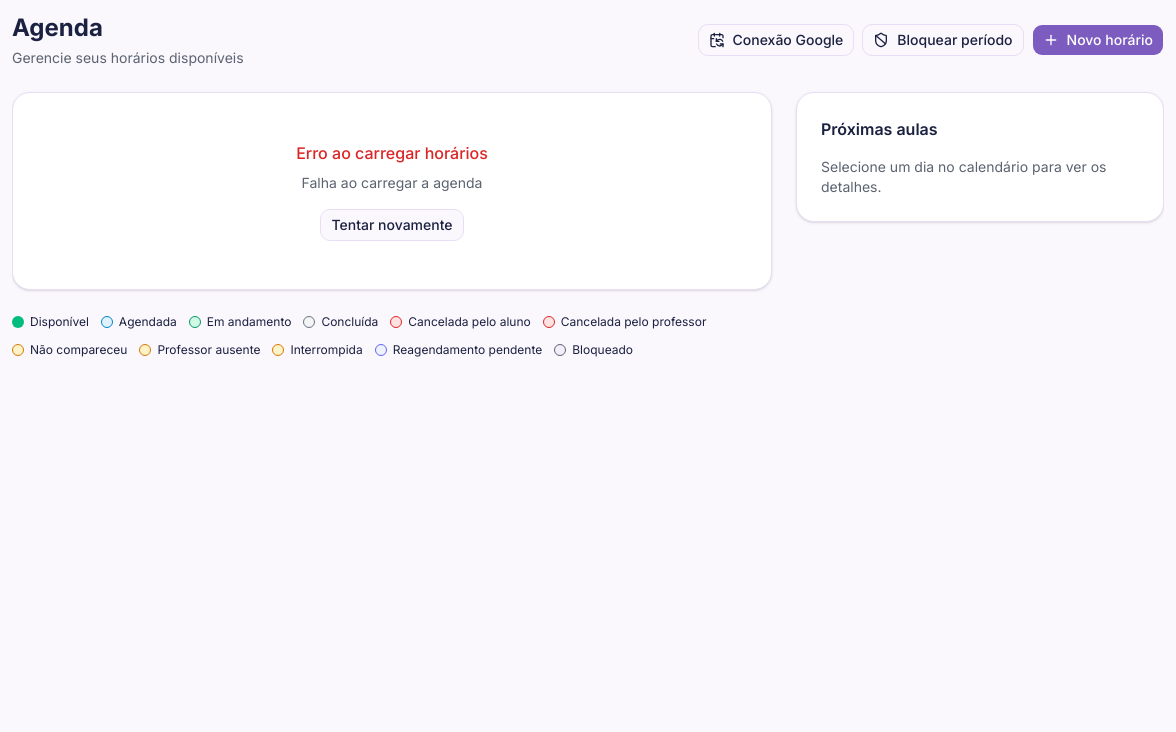
AdminScheduleClient - falha de carregamento da agenda › o retry re-busca e volta ao caminho feliz sem recarregar a rota
The image size is (1176, 732).
Expected: the message "Erro ao carregar horários Falha ao carregar a agenda Tentar novamente" is shown, [12,92,772,290]
Click the button with test id "calendar-view-error-retry-button" at point(392, 225), box [320,209,464,241]
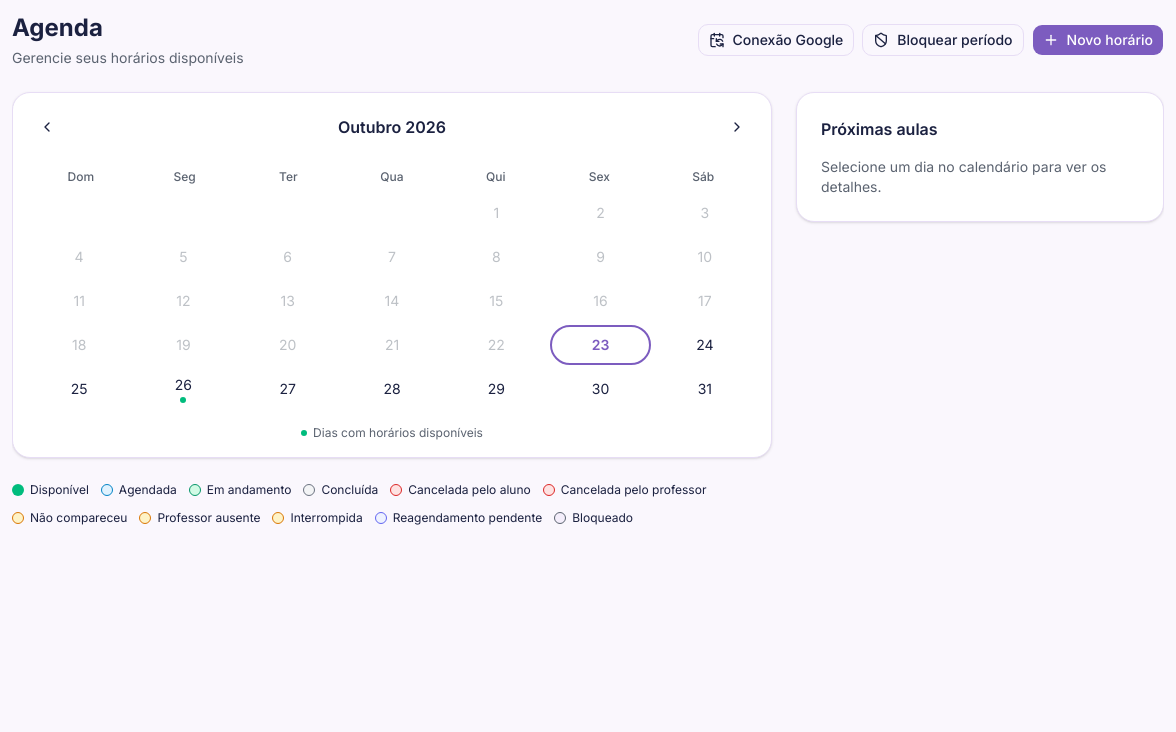
Result: the table with test id "calendar-view-grid" is shown at [29,193,755,409]
